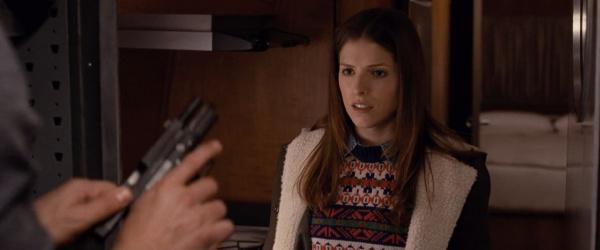Gun: (89, 93, 220, 250)
